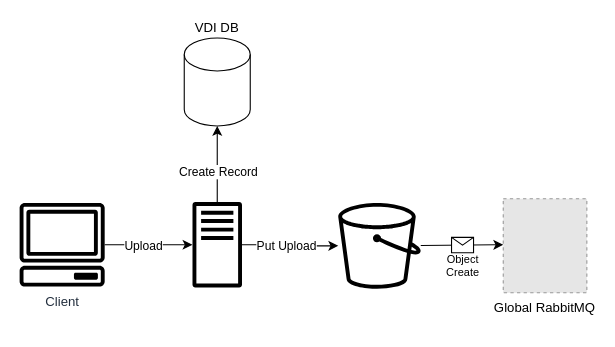
Some shapes in this 615 by 347 pixel diagram are drawn without their labels. Grey dashed boxes stand in for pictures. Each missing label, with the box of its shape:
Datasets Bucket: (338, 202, 420, 288)
VDI Service: (192, 201, 241, 287)
